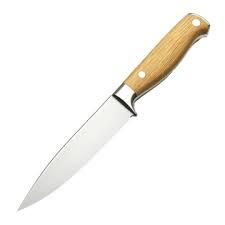Knife: (16, 11, 210, 211)
